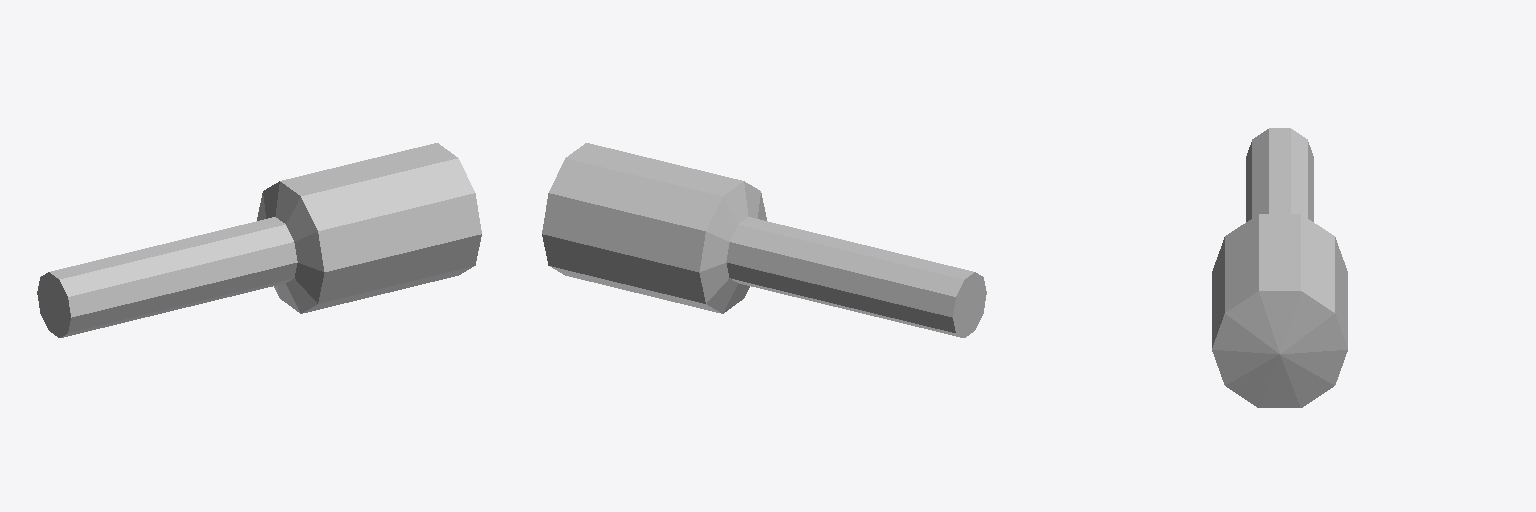
Rendered from starblast-1538716453934.obj.
3 renders of one model, left to right at view 1: azimuth 30°, elevation 25°; view 2: azimuth 150°, elevation 25°; view 3: azimuth 270°, elevation 25°, orthographic.
Bounding box in the file's own units: 2.05 × 0.5706 × 0.6.